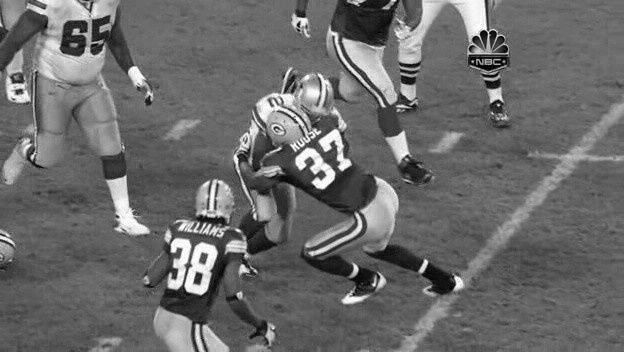person: (296, 75, 333, 123), (295, 75, 332, 123), (297, 75, 334, 123), (296, 74, 333, 122), (296, 76, 333, 124)
target_negative: (376, 20, 567, 251), (589, 93, 619, 301), (543, 188, 586, 306), (582, 141, 622, 206), (587, 184, 591, 320), (523, 336, 574, 344)
